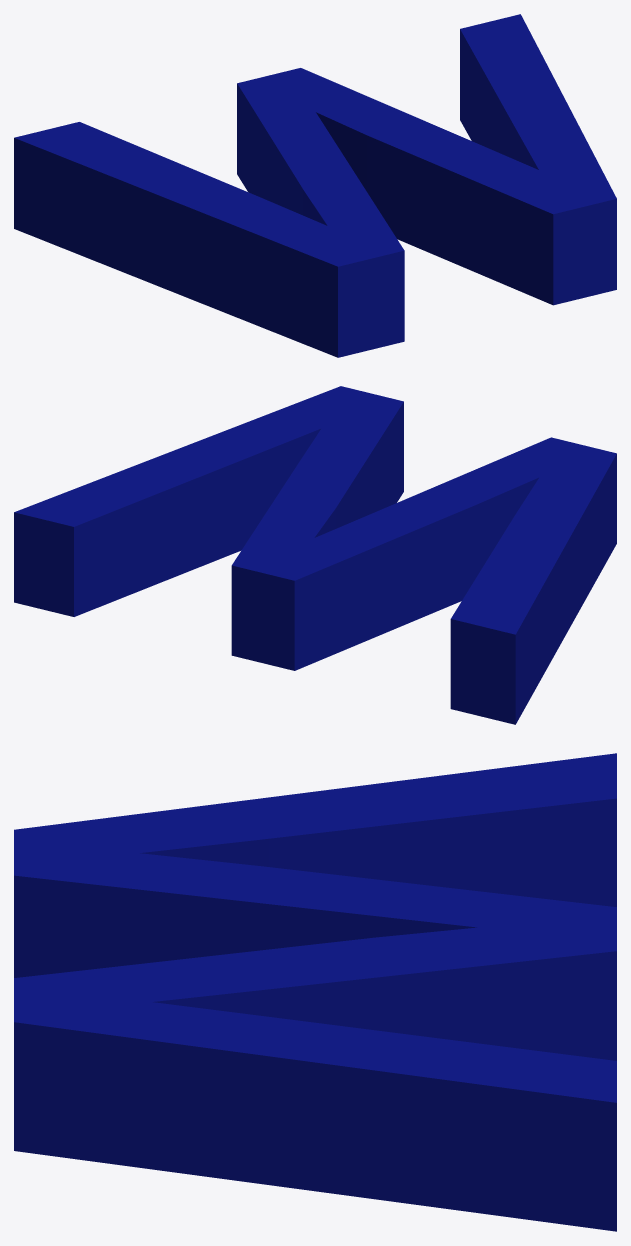
The picture shows the model from 3 angles, top to bottom: view 1: azimuth 30°, elevation 25°; view 2: azimuth 150°, elevation 25°; view 3: azimuth 270°, elevation 25°; orthographic projection. The views are drawn at different scales.
Visible parts, largest first — view 1: TextPlus049; view 2: TextPlus049; view 3: TextPlus049.
Part boxes in pixels (<box>): TextPlus049: <box>14,14,616,357</box>; TextPlus049: <box>14,386,616,724</box>; TextPlus049: <box>14,753,616,1231</box>.
Size of the model in its own units: 25.52 by 4.38 by 18.6.
